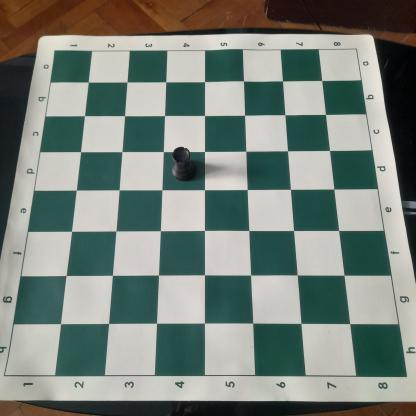black-rook: (170, 146, 199, 183)
